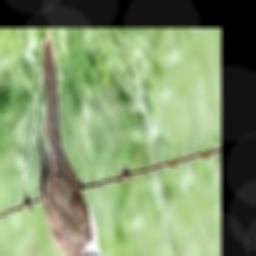Cuckoo: (37, 34, 112, 256)
